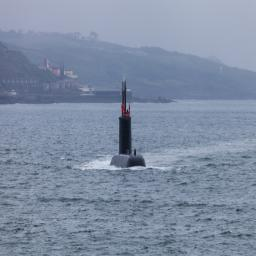submarine: (112, 82, 147, 171)
